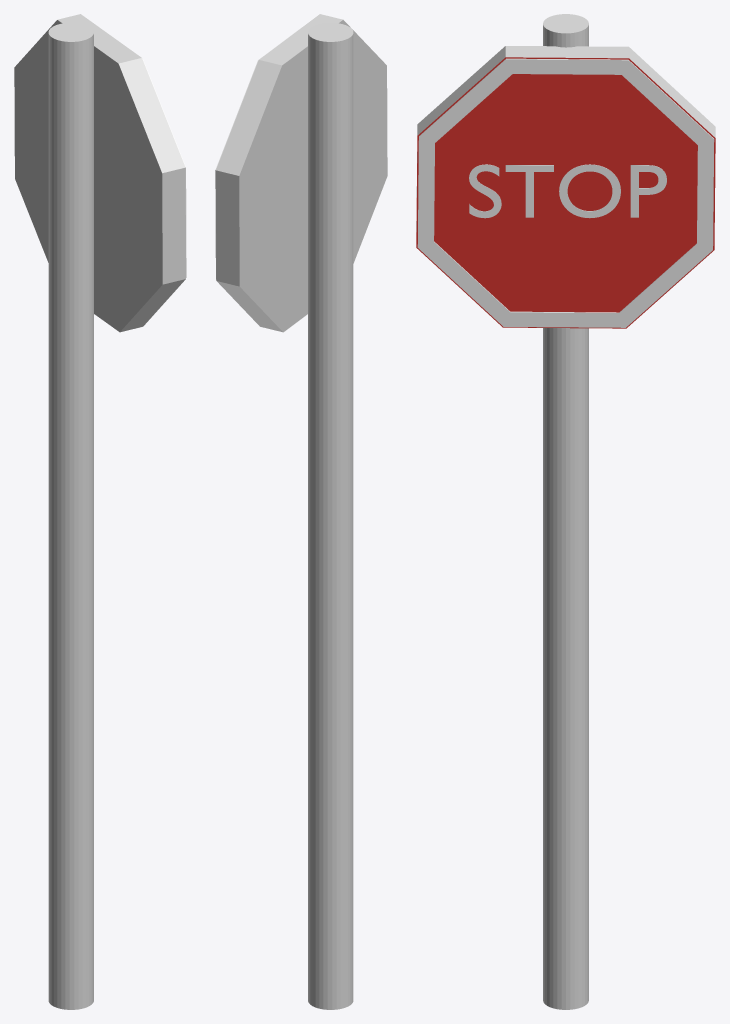
Rendered from SignStop.fbx.
3 views of the same model, side by side, from view 1: azimuth 30°, elevation 25°; view 2: azimuth 150°, elevation 25°; view 3: azimuth 270°, elevation 25° (orthographic).
Parts seen in each view (by area): view 1: Cylinder.002, SignOctagon.001; view 2: Cylinder.002, SignOctagon.001; view 3: SignOctagon.001, Cylinder.002, SignOctagon.000, TextStop.
Part boxes in pixels (x1,y1,x2,y2): Cylinder.002: (48, 22, 93, 1009); SignOctagon.001: (14, 14, 185, 332); Cylinder.002: (308, 22, 353, 1009); SignOctagon.001: (216, 14, 387, 332); SignOctagon.001: (416, 46, 715, 328); Cylinder.002: (543, 14, 588, 1009); SignOctagon.000: (417, 58, 714, 327); TextStop: (469, 164, 666, 218).
Bounding box in the file's own units: 111 × 1671 × 464.
